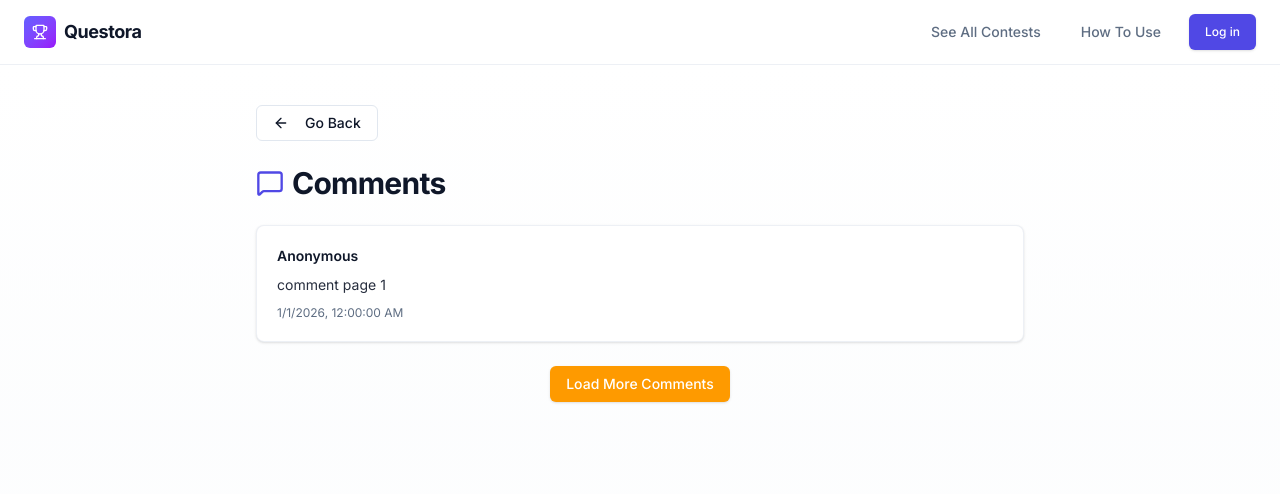
Test: ComentsPage › keeps earlier pages when loading more
Check: the text "comment page 1" is shown, box [277,276,386,293]
What coordinates should you click on to do the following:
click the button "Load More Comments"
I would click on:
 (640, 384)
Its box is [550,366,730,402].
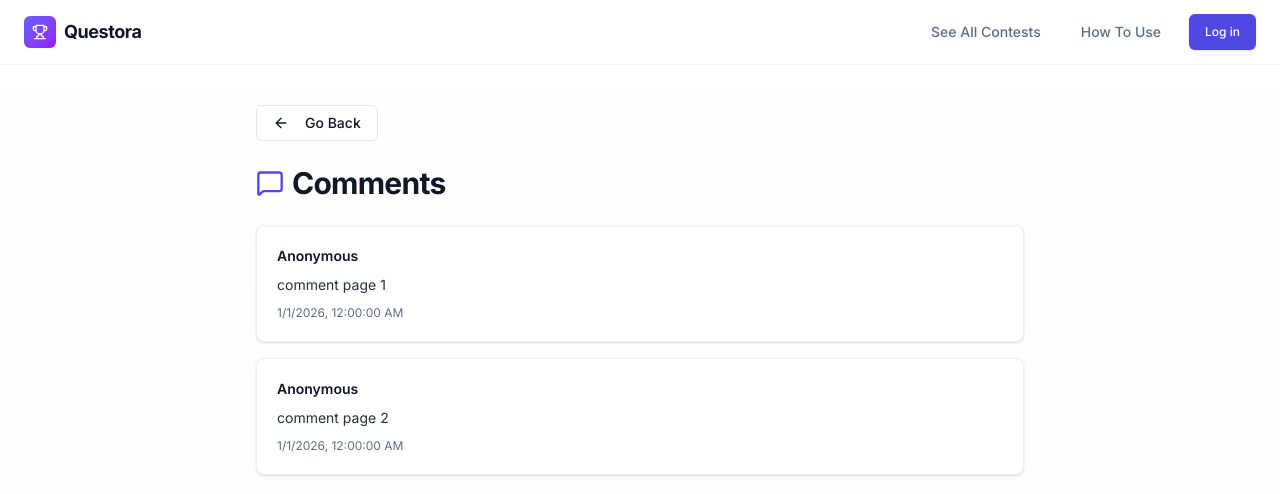
Check: the text "comment page 1" is shown, box [277,276,386,293]
Check: the text "comment page 2" is shown, box [277,409,389,426]
